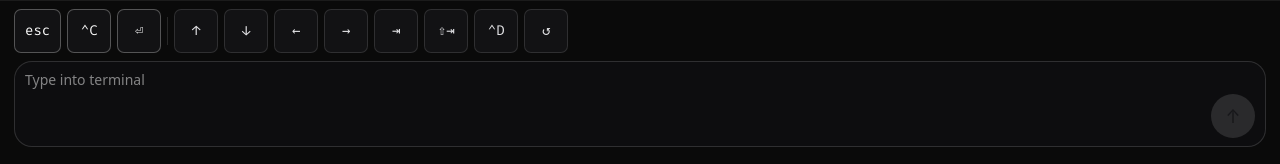
Composer › the ↺ key cycles older prompts then wraps to empty
Step 1. Click the button named "previous prompt" → {"x": 546, "y": 31}, box [524,9,568,53]
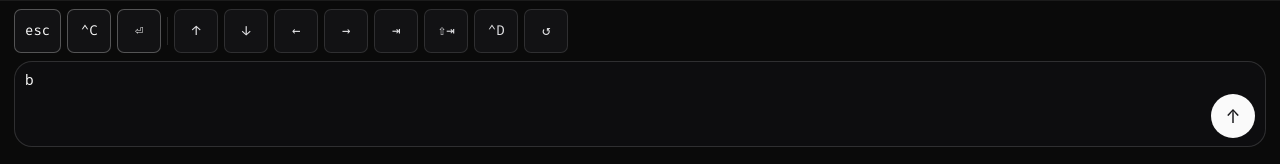
expect the text box with placeholder "Type into terminal" holds "b": met, box [25,70,1255,90]
Step 2. Click the button named "previous prompt" → {"x": 546, "y": 31}, box [524,9,568,53]
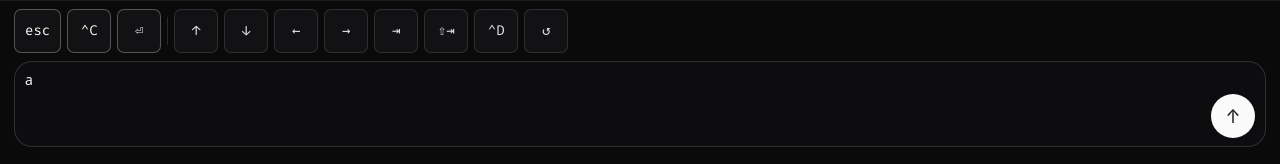
expect the text box with placeholder "Type into terminal" holds "a": met, box [25,70,1255,90]
Step 3. Click the button named "previous prompt" → {"x": 546, "y": 31}, box [524,9,568,53]
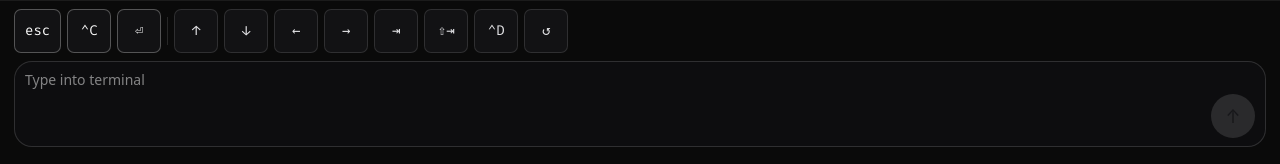
expect the text box with placeholder "Type into terminal" is empty: met, box [25,70,1255,90]
Step 4. Click the button named "previous prompt" → {"x": 546, "y": 31}, box [524,9,568,53]
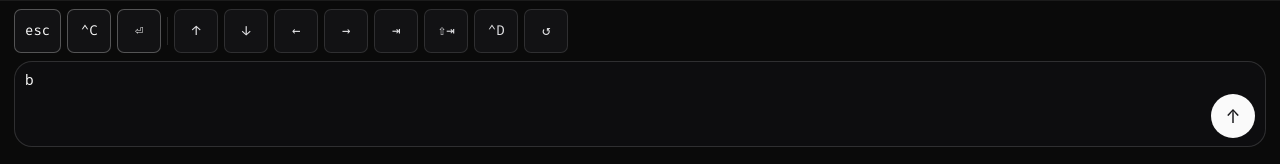
expect the text box with placeholder "Type into terminal" holds "b": met, box [25,70,1255,90]
